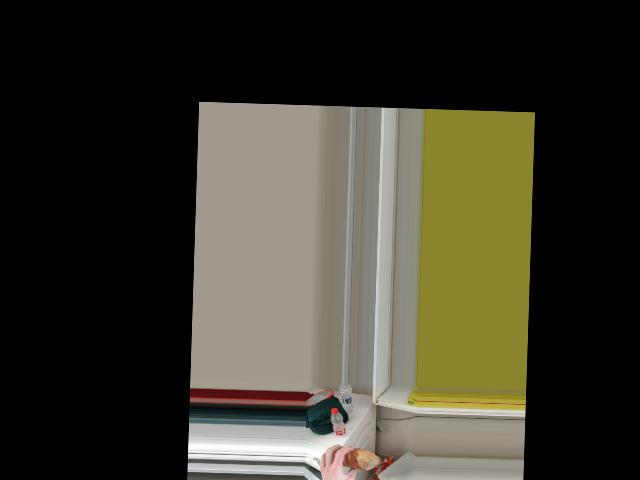sweet_potato: (335, 449, 369, 474)
